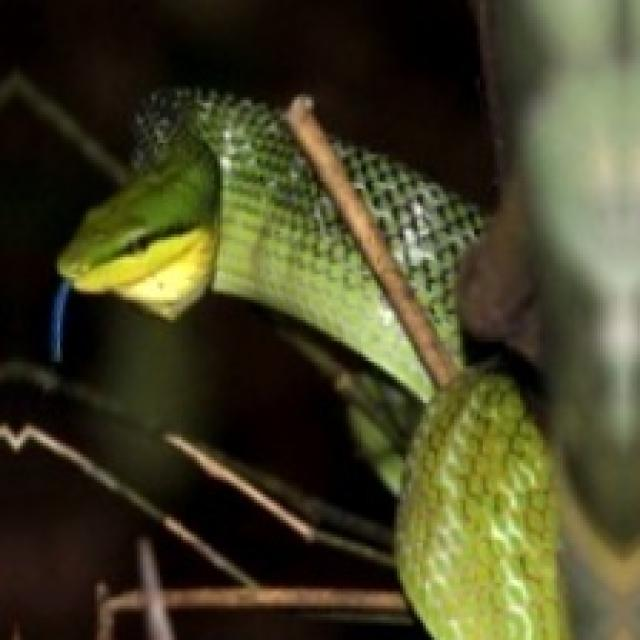red-tailed green ratsnake: (57, 91, 577, 637)
